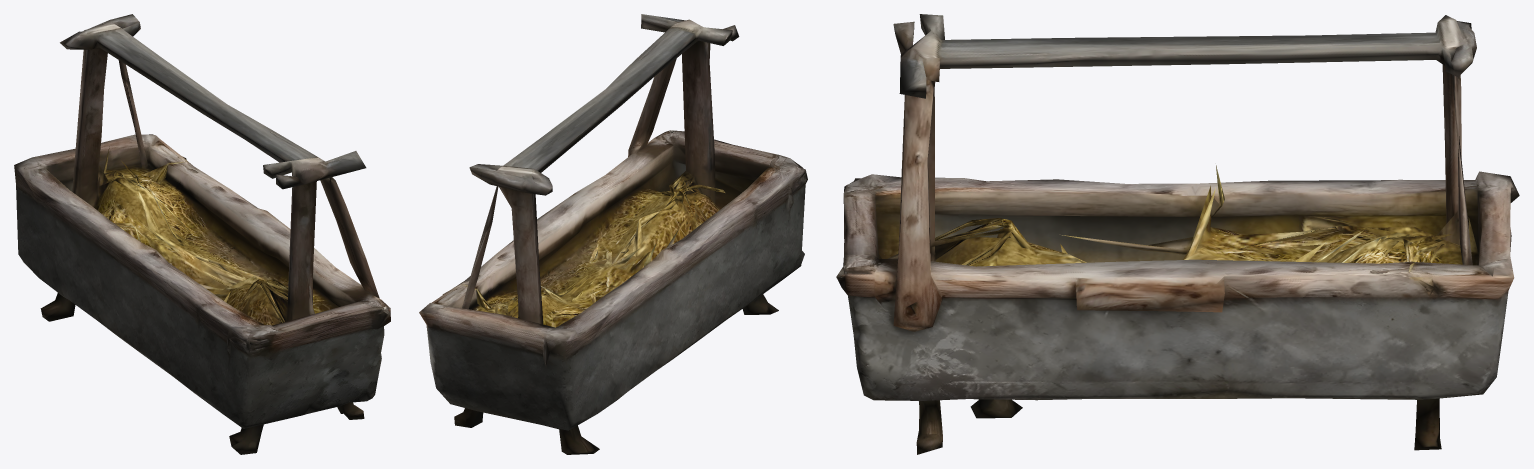
File: cs_trough.glb
3 views of the same model, side by side, from view 1: azimuth 30°, elevation 25°; view 2: azimuth 150°, elevation 25°; view 3: azimuth 270°, elevation 25° (orthographic). The views are drawn at different scales.
Parts seen in each view (by area): view 1: tripo_node_ba1ff5db-2056-4475-aef9-d47fea9835d4; view 2: tripo_node_ba1ff5db-2056-4475-aef9-d47fea9835d4; view 3: tripo_node_ba1ff5db-2056-4475-aef9-d47fea9835d4.
Part boxes in pixels (left/top/right/bottom): tripo_node_ba1ff5db-2056-4475-aef9-d47fea9835d4: left=14, top=14, right=390, bottom=454; tripo_node_ba1ff5db-2056-4475-aef9-d47fea9835d4: left=419, top=14, right=807, bottom=454; tripo_node_ba1ff5db-2056-4475-aef9-d47fea9835d4: left=836, top=14, right=1519, bottom=454.
Size of the model in its own units: 0.375 by 0.6108 by 1.
Materials: 1 (1 with a texture image).
